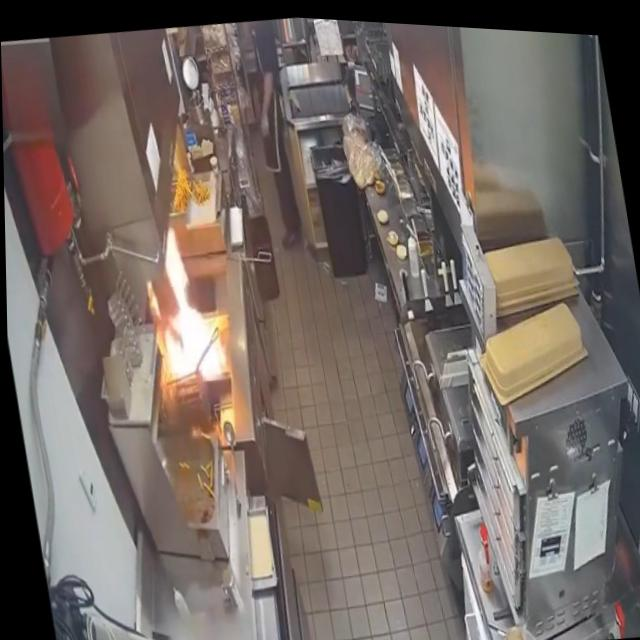fire: (138, 210, 232, 392)
